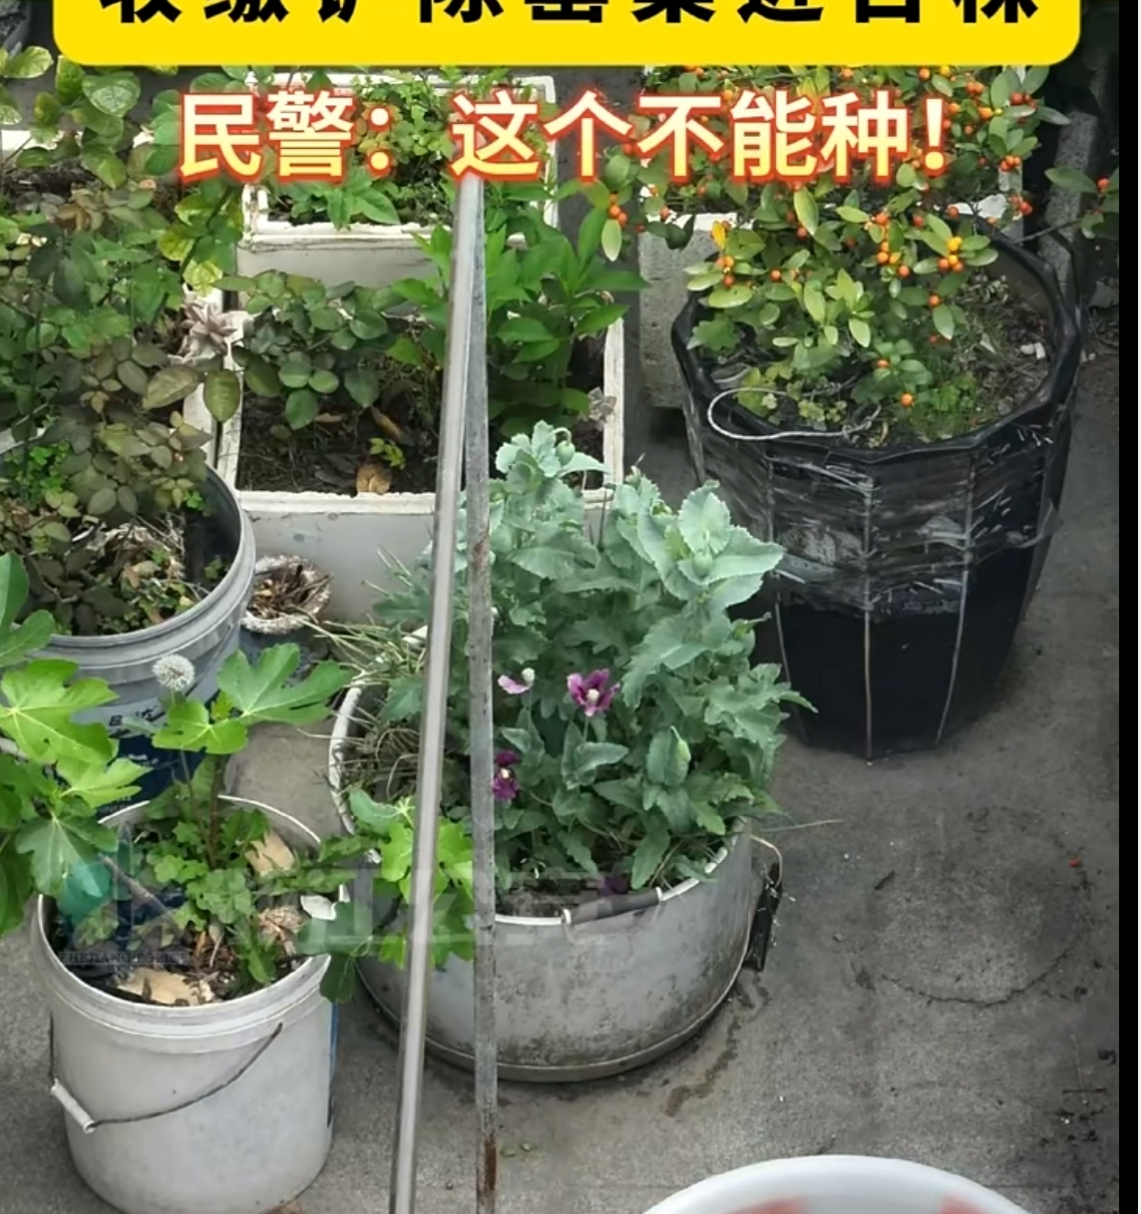Poppy: (413, 431, 777, 895)
